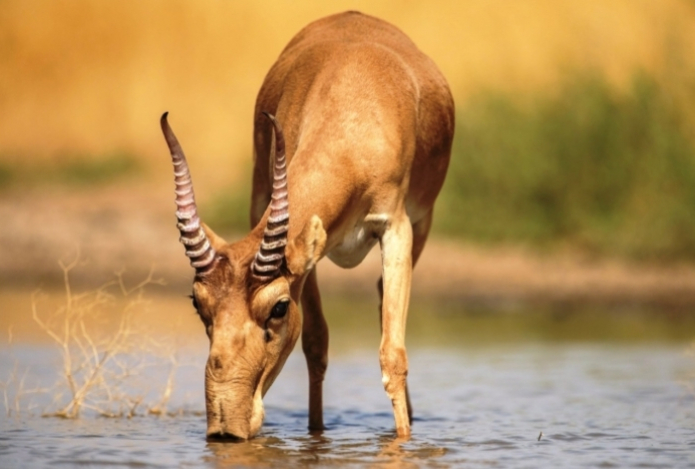saiga: (157, 9, 457, 440)
